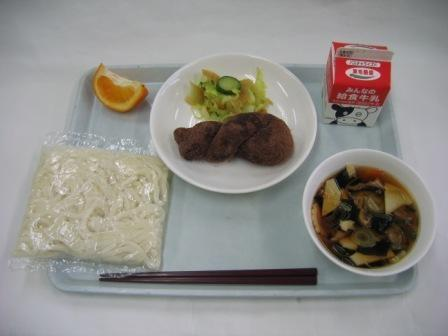Citrus: (95, 54, 149, 116)
Milk: (316, 36, 407, 131)
Salad: (174, 65, 286, 118)
Soups: (311, 153, 437, 269)
Udon: (9, 122, 177, 276)
pastry: (164, 105, 310, 172)
